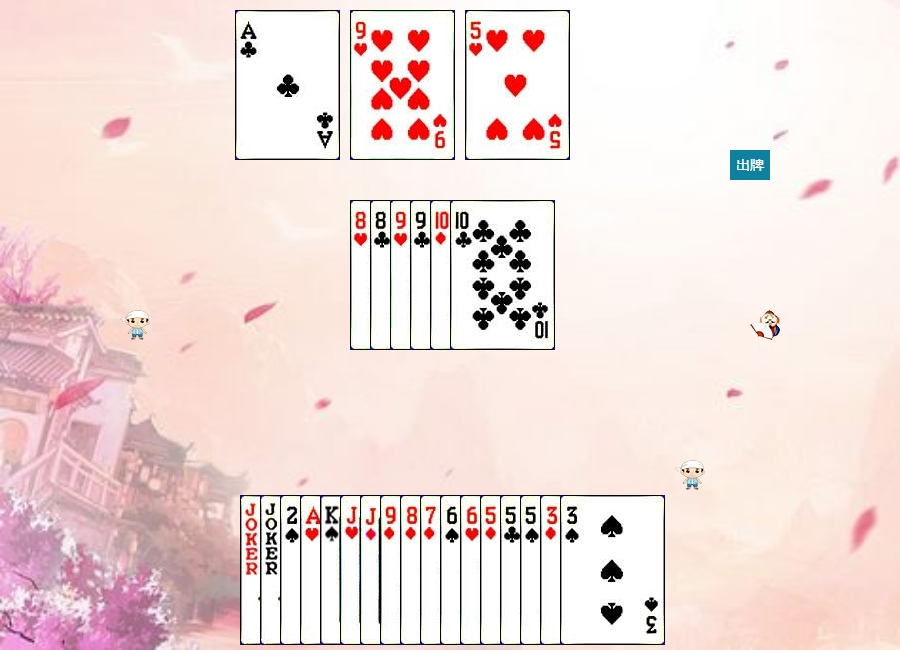10~1: (430, 200, 535, 350)
10~2: (450, 200, 555, 350)
11~1: (360, 495, 465, 645)
11~3: (340, 495, 445, 645)
13~4: (320, 495, 425, 645)
14~2: (235, 10, 340, 160)
14~3: (300, 495, 405, 645)
15~4: (280, 495, 385, 645)
17~3: (260, 495, 365, 645)
18~4: (240, 495, 345, 645)
3~1: (540, 495, 645, 645)
3~4: (560, 495, 665, 645)
5~1: (480, 495, 585, 645)
5~2: (500, 495, 605, 645)
5~3: (465, 10, 570, 160)
5~4: (520, 495, 625, 645)
6~3: (460, 495, 565, 645)
6~4: (440, 495, 545, 645)
7~1: (420, 495, 525, 645)
8~1: (400, 495, 505, 645)
8~2: (370, 200, 475, 350)
8~3: (350, 200, 455, 350)
9~1: (380, 495, 485, 645)
9~2: (410, 200, 515, 350)
9~3: (350, 10, 455, 160), (390, 200, 495, 350)
